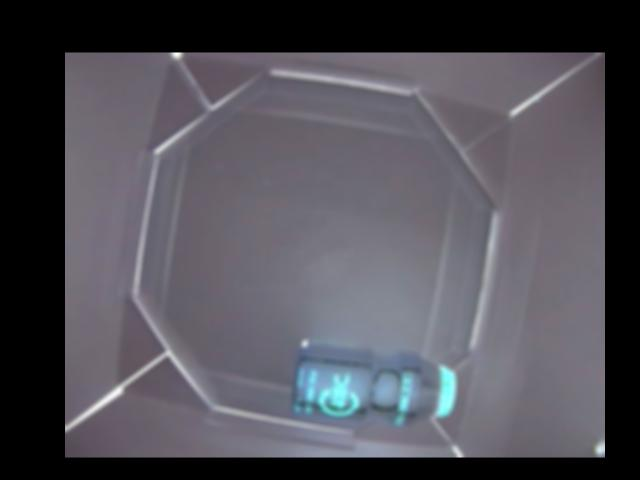Bottle: (288, 341, 460, 425)
